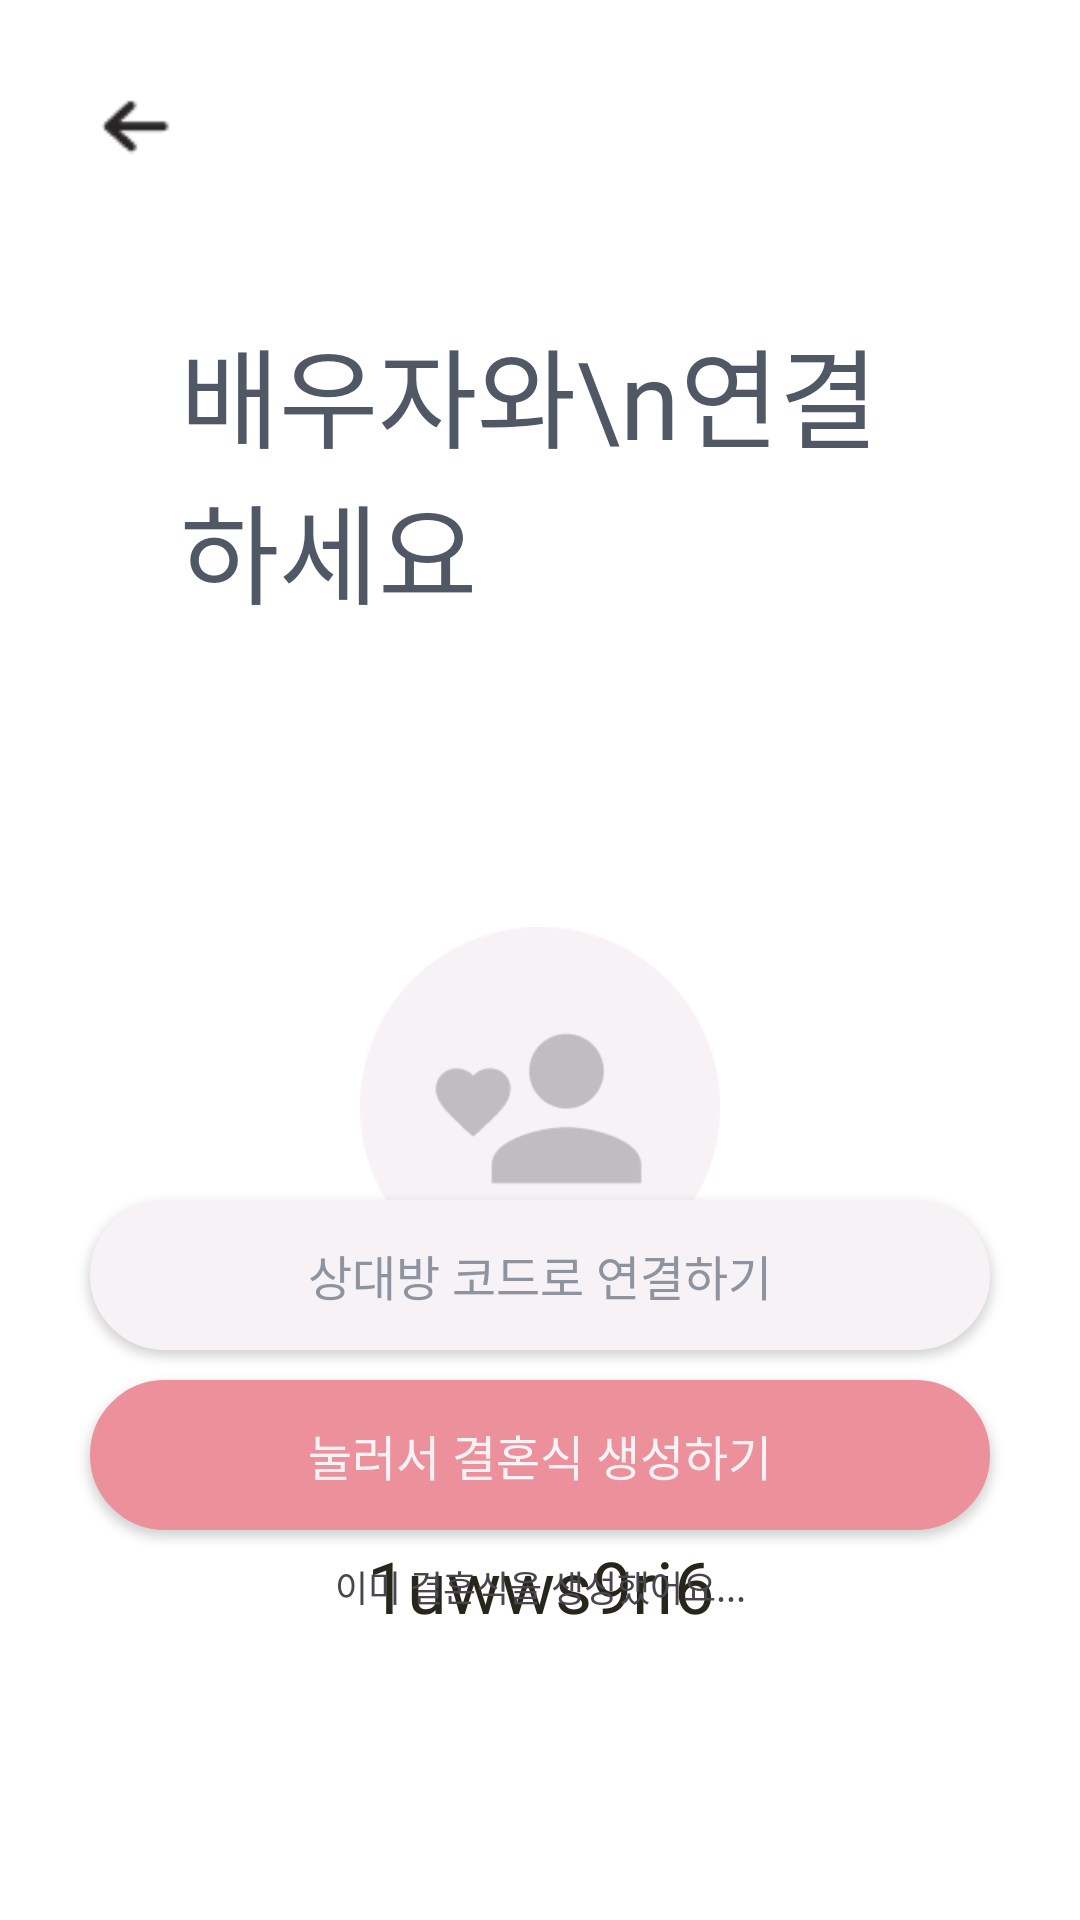

Named icons in this screenshot (1080px×1920px) and their centers, (x,y):
back arrow: (136,126)
